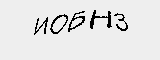Б: (68, 7, 86, 35)
З: (113, 11, 130, 34)
И: (31, 15, 50, 37)
Н: (89, 8, 113, 31)
О: (49, 12, 69, 37)
